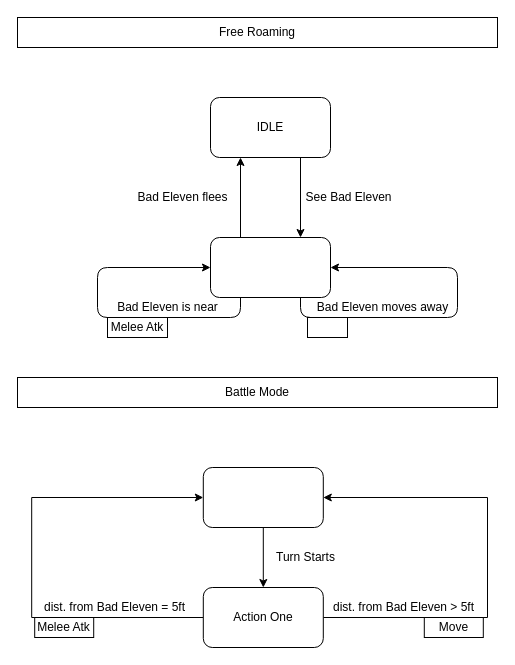
This 515x665 diagram has some shape labels left out. Here are the shapes that lost their labels. From the top down, the centre of each, then its label:
At point (270, 267): "AGGRESSIVE".
At point (327, 327): "Chase".
At point (262, 497): "Wait Turn".
